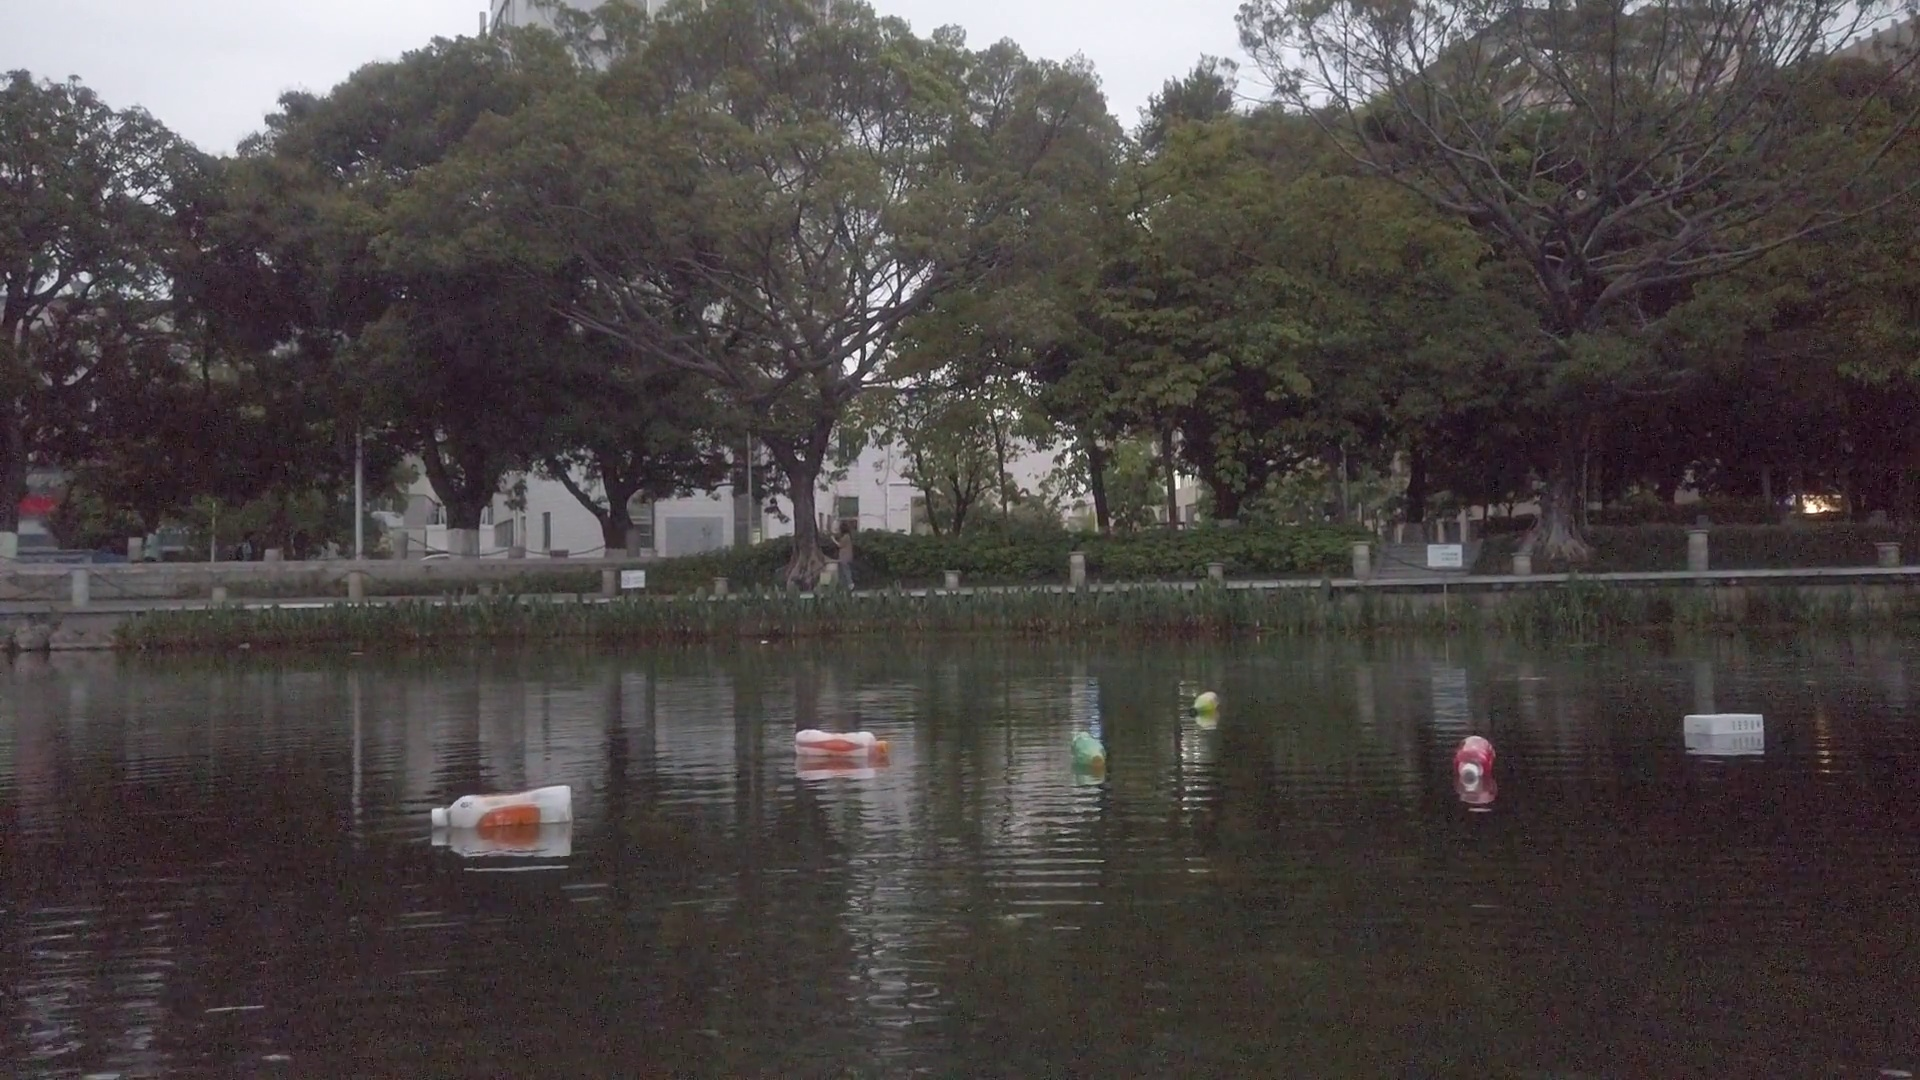bottle: (430, 787, 576, 825), (794, 728, 889, 756), (1452, 735, 1501, 787), (1069, 731, 1106, 767), (1189, 688, 1218, 717)
carton: (1683, 709, 1764, 737)
